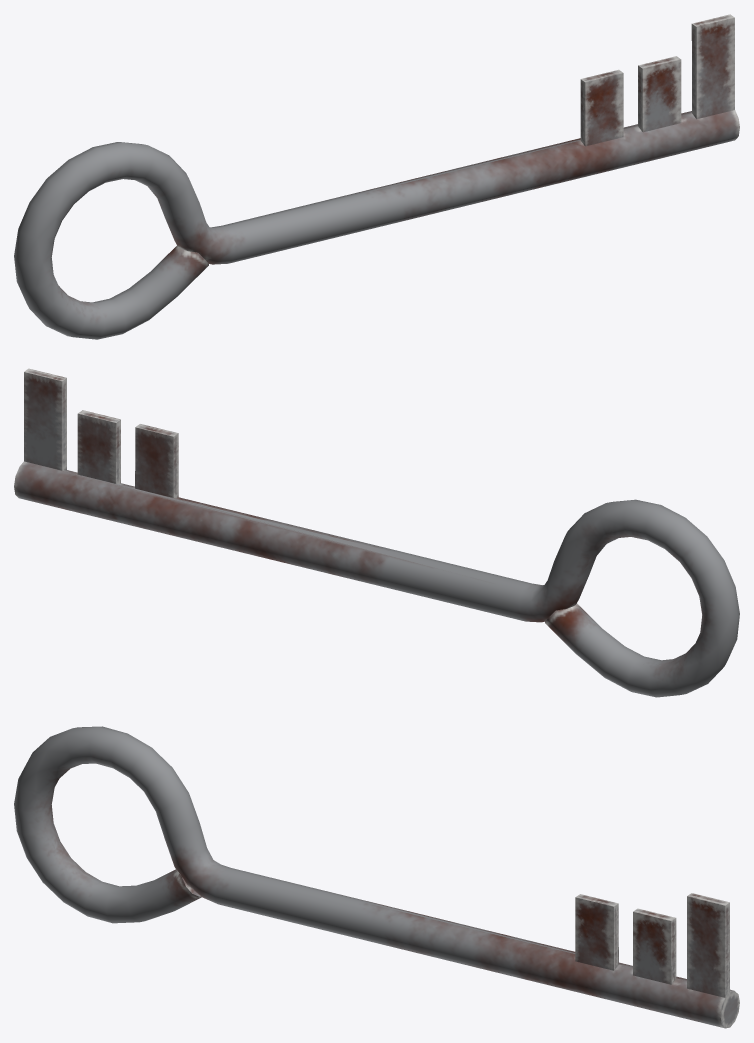
The model's file is Key01.FBX.
The picture shows the model from 3 angles, top to bottom: view 1: azimuth 30°, elevation 25°; view 2: azimuth 150°, elevation 25°; view 3: azimuth 330°, elevation 25°; orthographic projection.
Visible parts, largest first — view 1: Torus001; view 2: Torus001; view 3: Torus001.
Boxes of the visible parts, x1,y1,x2,y2 form: Torus001: [14, 14, 739, 339]; Torus001: [14, 368, 739, 697]; Torus001: [14, 726, 739, 1028].
Size of the model in its own units: 3.66 by 0.9299 by 0.1732.
